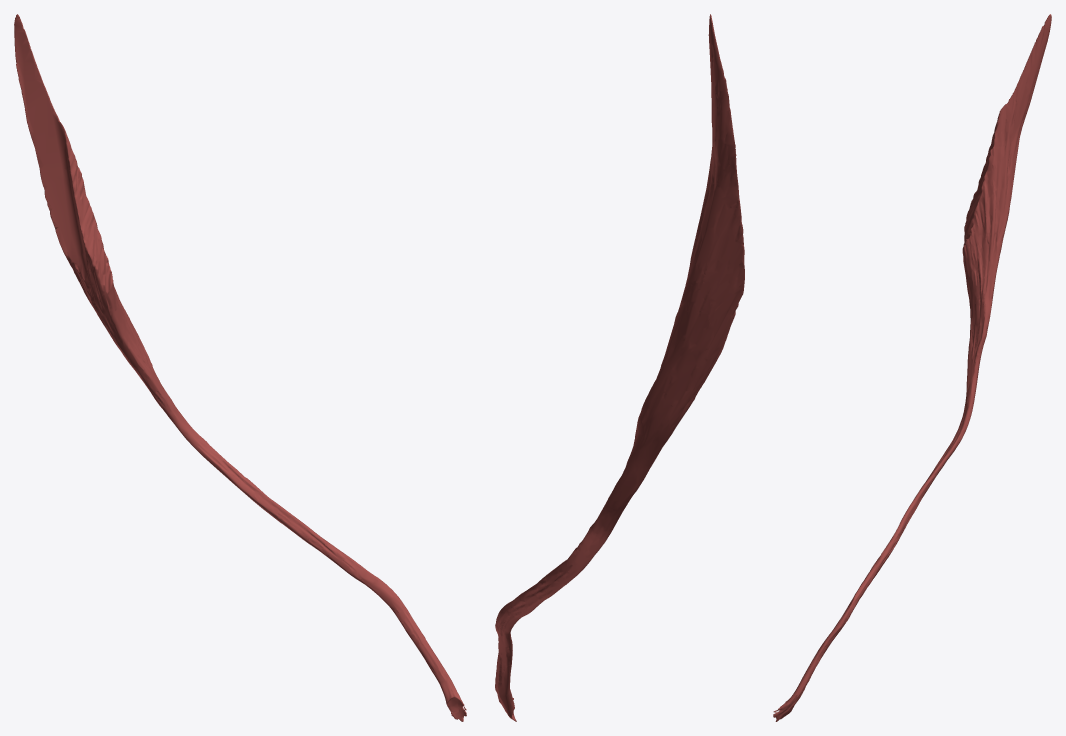
File: FMA38523.glb
The picture shows the model from 3 angles, left to right: view 1: azimuth 30°, elevation 25°; view 2: azimuth 150°, elevation 25°; view 3: azimuth 270°, elevation 25°; orthographic projection. The views are drawn at different scales.
Parts seen in each view (by area): view 1: FMA38523; view 2: FMA38523; view 3: FMA38523.
Part boxes in pixels (<box>): FMA38523: <box>14,14,466,721</box>; FMA38523: <box>495,14,744,721</box>; FMA38523: <box>773,14,1051,721</box>.
Size of the model in its own units: 0.0951 by 0.2023 by 0.0875.
